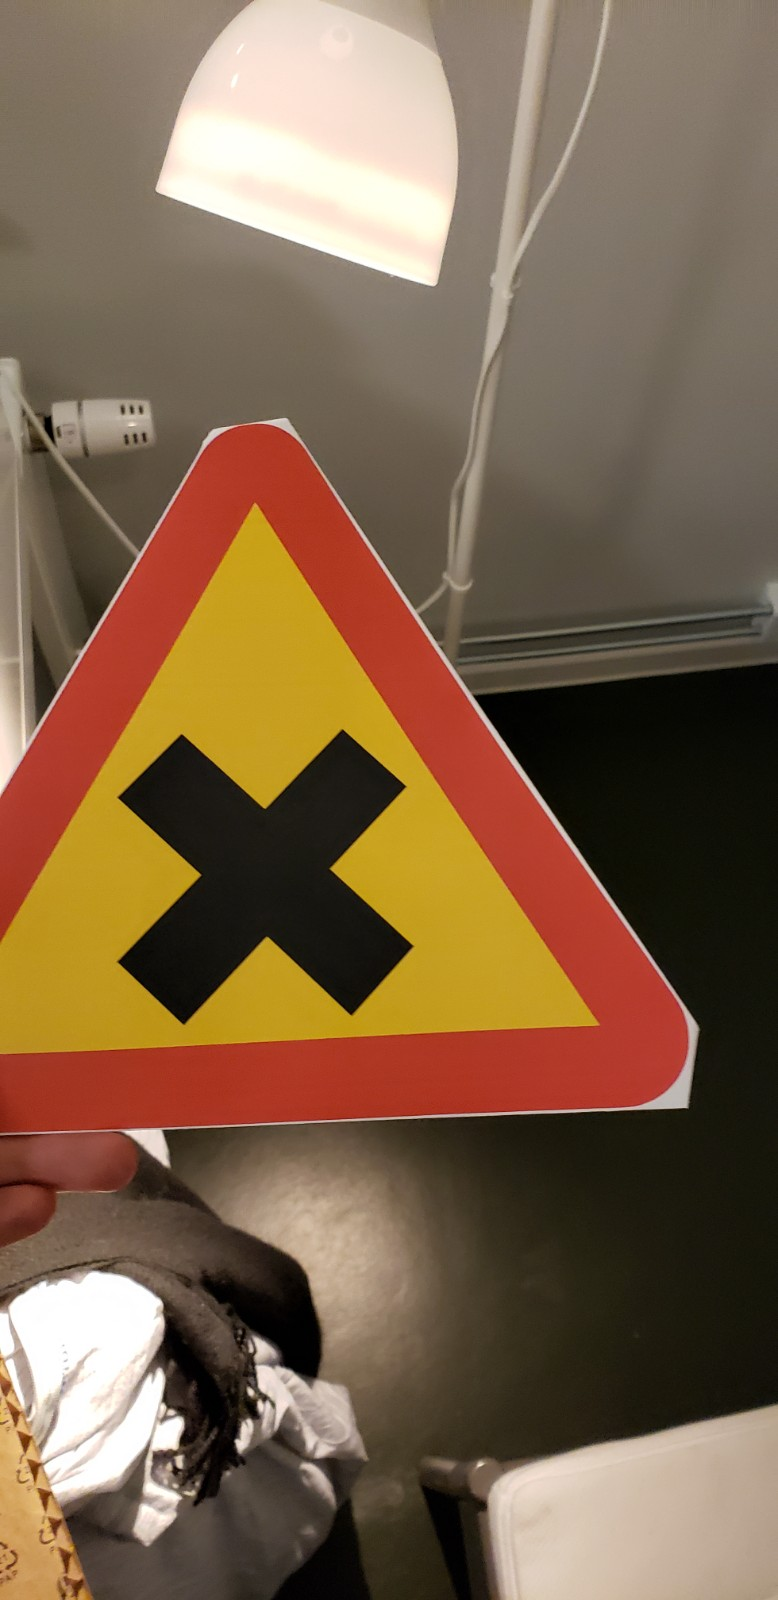junction: (12, 366, 778, 1153)
